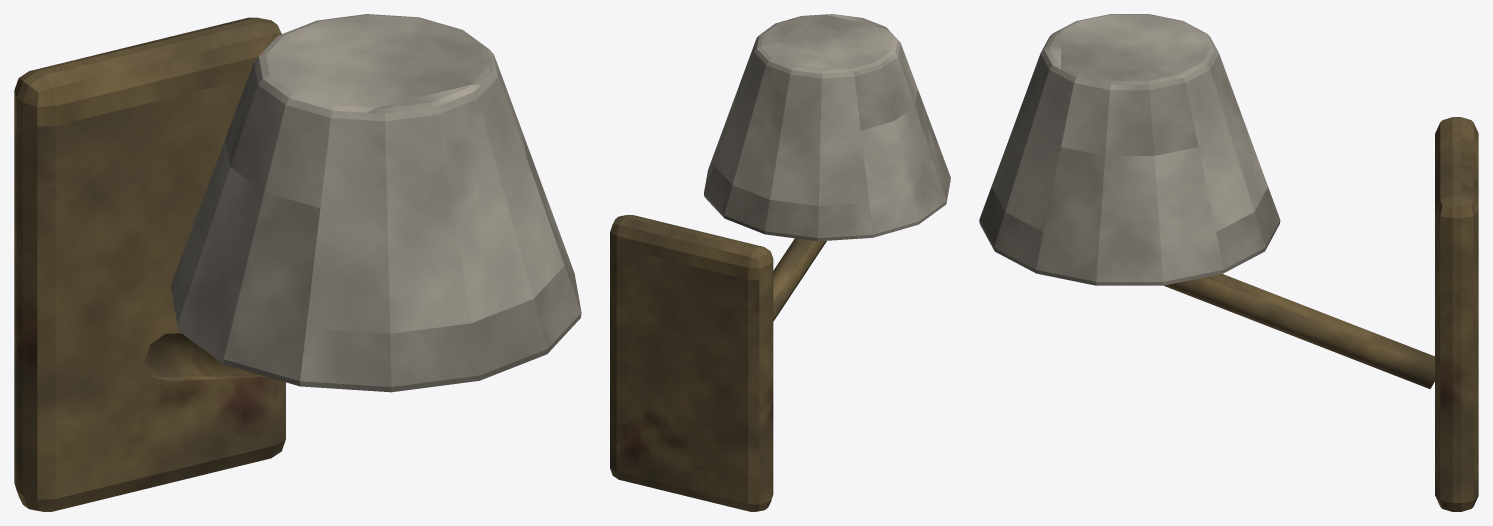
File: U01_wall_sconce_v3.glb
3 views of the same model, side by side, from view 1: azimuth 30°, elevation 25°; view 2: azimuth 150°, elevation 25°; view 3: azimuth 270°, elevation 25° (orthographic). The views are drawn at different scales.
Parts seen in each view (by area): view 1: U01_wall_sconce_v3; view 2: U01_wall_sconce_v3; view 3: U01_wall_sconce_v3.
Boxes of the visible parts, x1,y1,x2,y2 form: U01_wall_sconce_v3: [14, 14, 581, 511]; U01_wall_sconce_v3: [610, 14, 950, 511]; U01_wall_sconce_v3: [979, 14, 1478, 511].
Bounding box in the file's own units: 0.1763 × 0.2816 × 0.3.
Materials: 3 (3 with a texture image).
